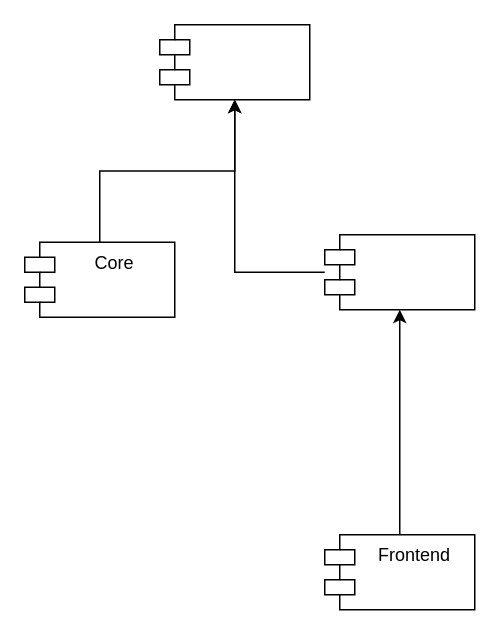
This 500x635 diagram has some shape labels left out. The shapes that lost their labels are listed below. From the top down, each one's centre as x and y in pixels, then its label:
At (x=234, y=61): "Database".
At (x=399, y=271): "Django server".
